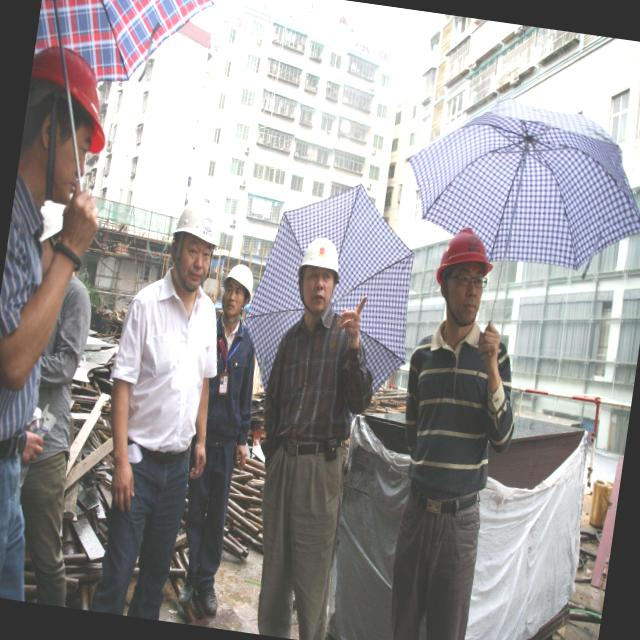helmet: (20, 36, 126, 164), (431, 219, 498, 286), (168, 193, 228, 264), (292, 238, 349, 294), (222, 262, 260, 309)
no-goggles: (54, 108, 106, 174), (438, 265, 493, 298), (298, 264, 336, 292), (177, 238, 215, 266), (224, 282, 248, 302)
no-vest: (391, 331, 512, 570), (258, 314, 356, 490), (129, 292, 210, 453), (198, 340, 254, 456)
